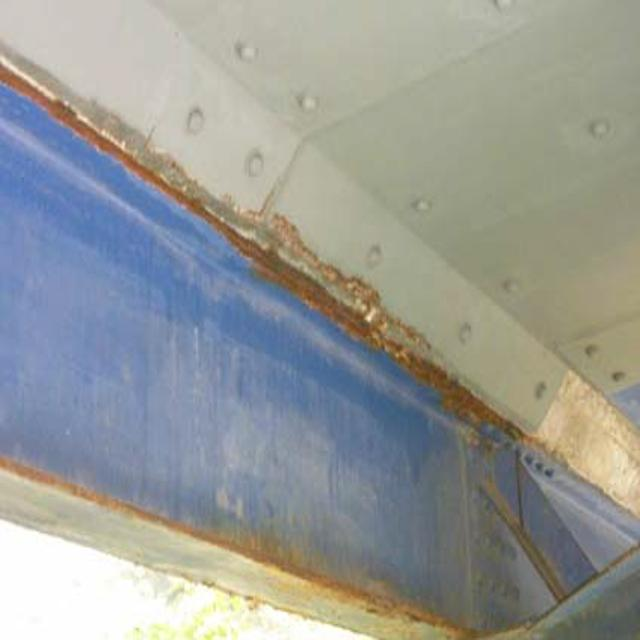corrosion: (9, 55, 501, 640)
